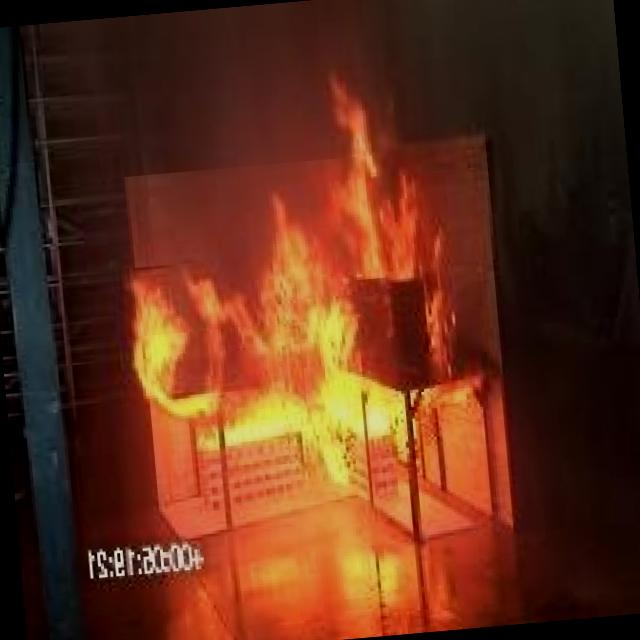fire: (62, 52, 544, 585)
